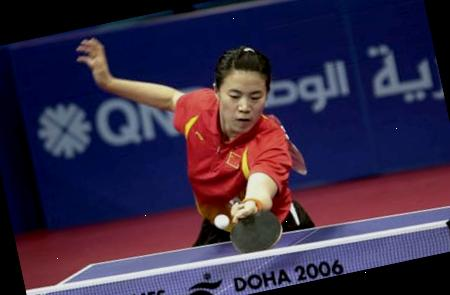ball: (208, 209, 232, 230)
